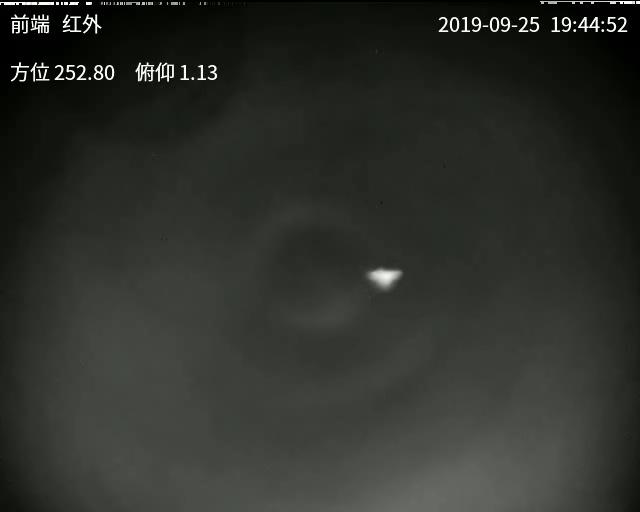uav: (365, 262, 400, 289)
